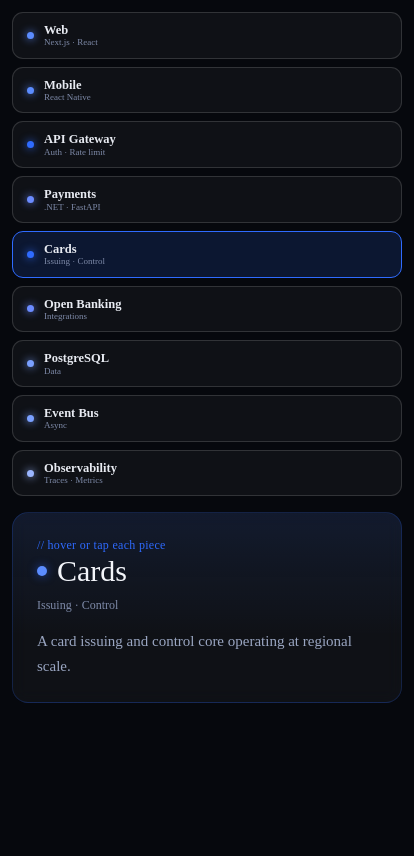
Scenario: ArchitectureDiagram › mobile stacked layout › clicking a mobile node button updates the mobile detail panel and marks it pressed
What coordinates should you click on to do the following:
click the button with test id "arch-node-mobile-pagos"
I would click on:
 (70, 194)
Its box is [12,176,402,223].
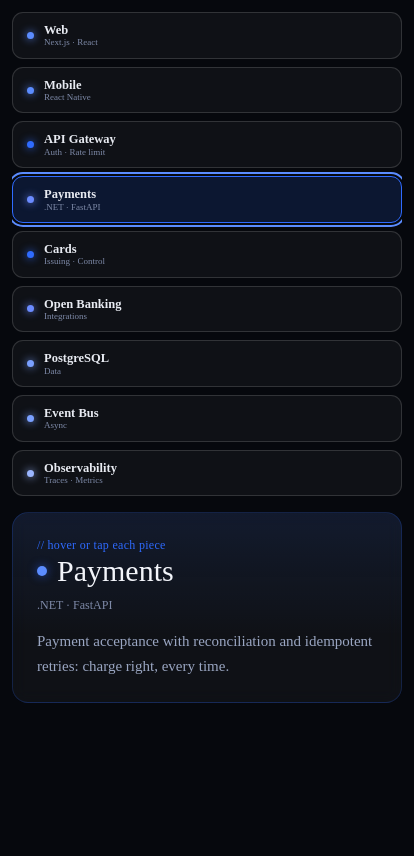
expect the element with test id "arch-detail-mobile" shows "Payment acceptance with reconciliation and idempotent retries: charge right, every time.": met, box [37,634,372,674]
